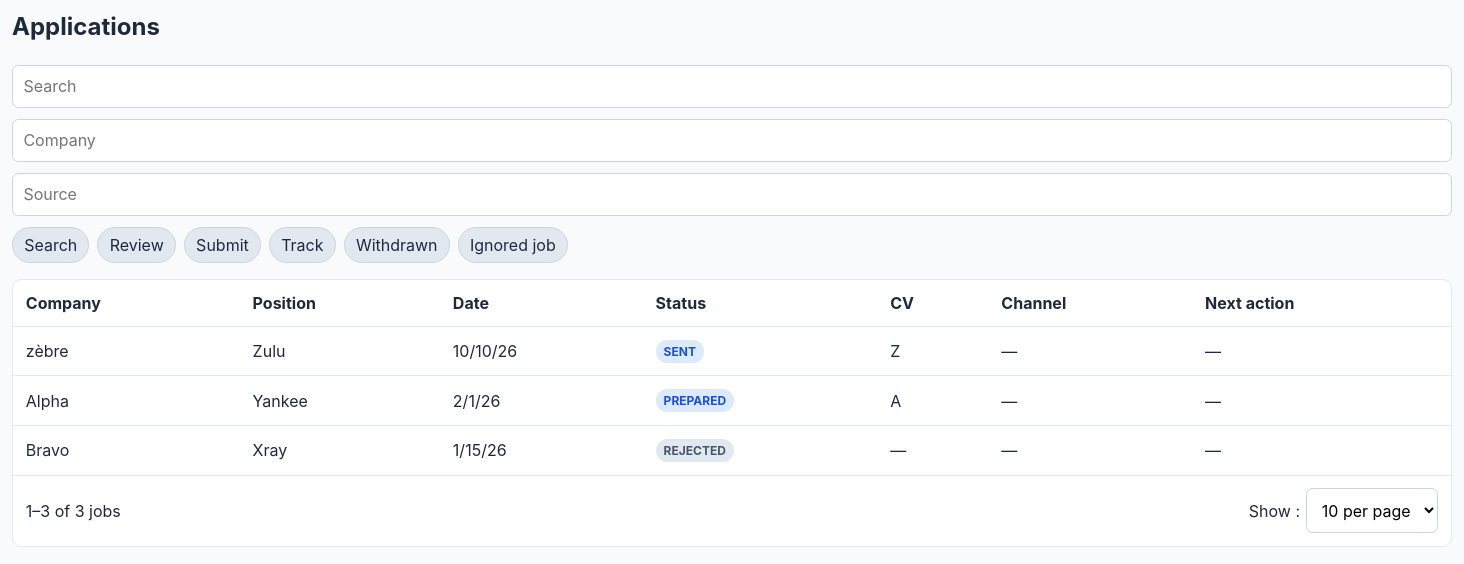
tri des candidatures › trie Company par ordre ascendant
Click the button "Company".
click(63, 303)  # box 26,293 -> 101,313
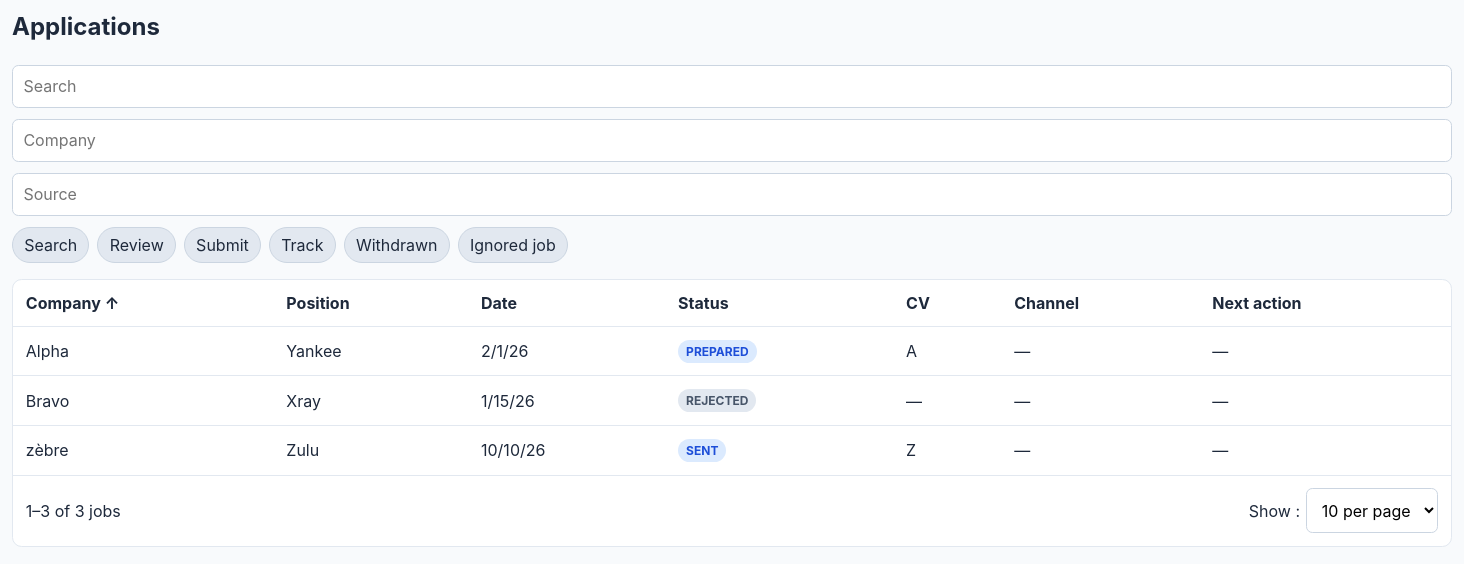
Expected: the button "Company ↑" is shown, 26,293 -> 119,313
